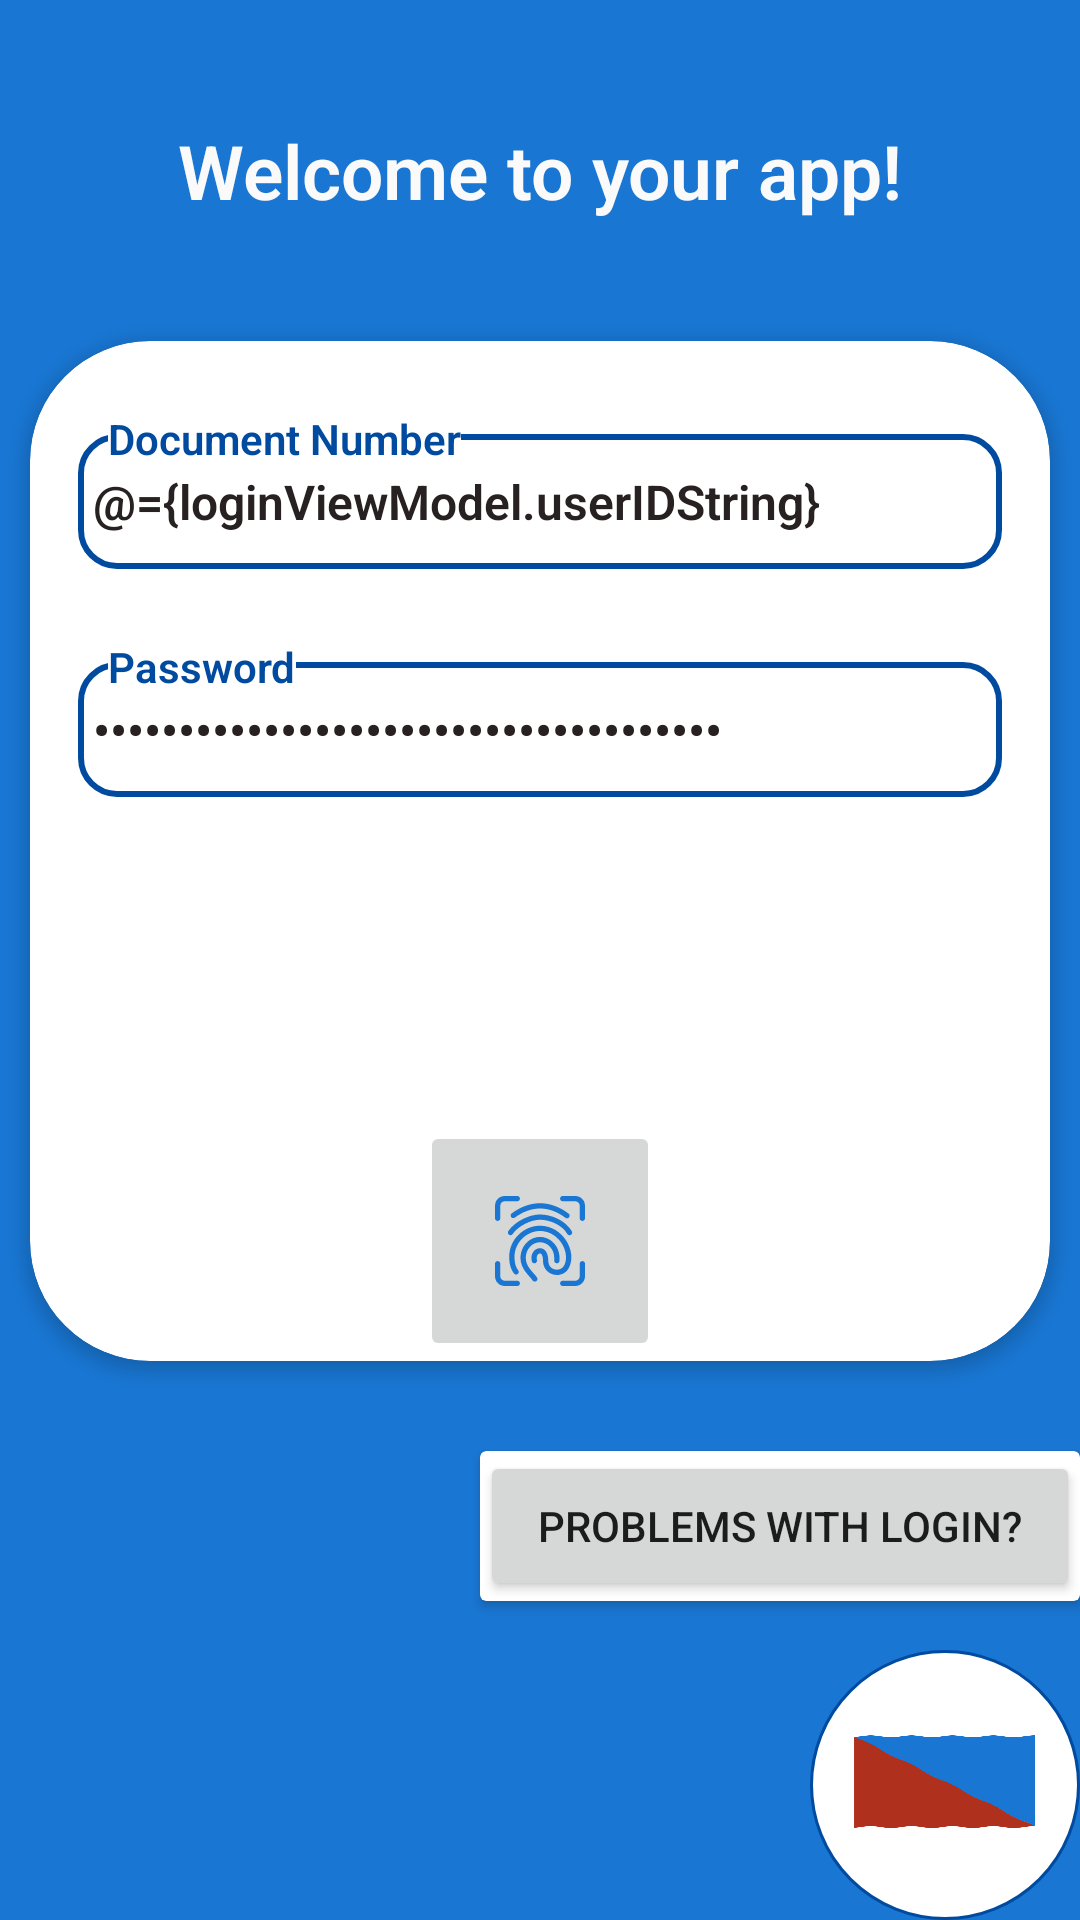

Screen size 1080w x 1920h. Icon name, then its center in pixels as [x,y]:
flag obtonia: [945,1785]
